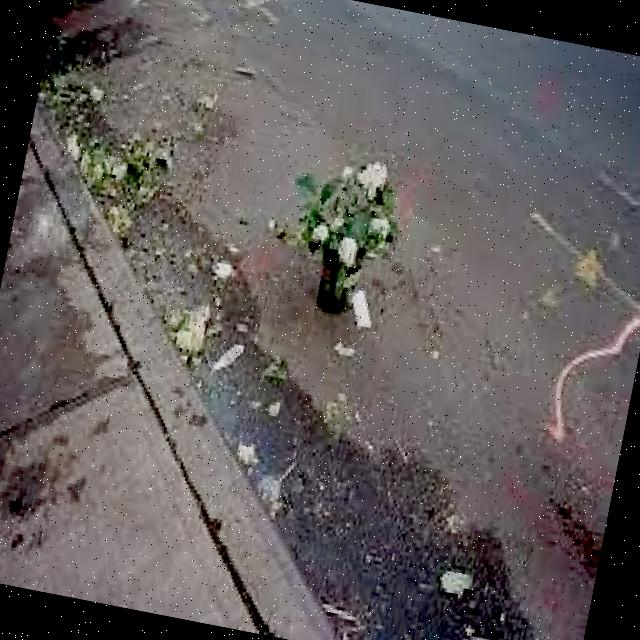curb: (46, 154, 328, 639)
